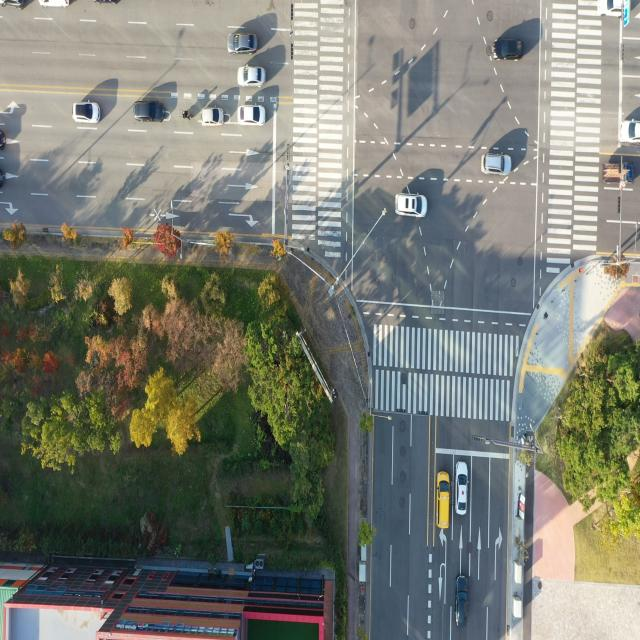car: (438, 471, 452, 531), (132, 99, 164, 125), (455, 575, 470, 630), (396, 194, 427, 220), (456, 463, 470, 519), (480, 153, 512, 176), (492, 38, 524, 61), (227, 31, 257, 55), (594, 0, 624, 21), (75, 101, 101, 125), (238, 104, 265, 126), (619, 119, 640, 146), (240, 66, 265, 86), (201, 106, 224, 125), (38, 0, 70, 11), (0, 0, 25, 10), (0, 165, 6, 189), (0, 129, 5, 151)
small_truck: (602, 158, 636, 186)
